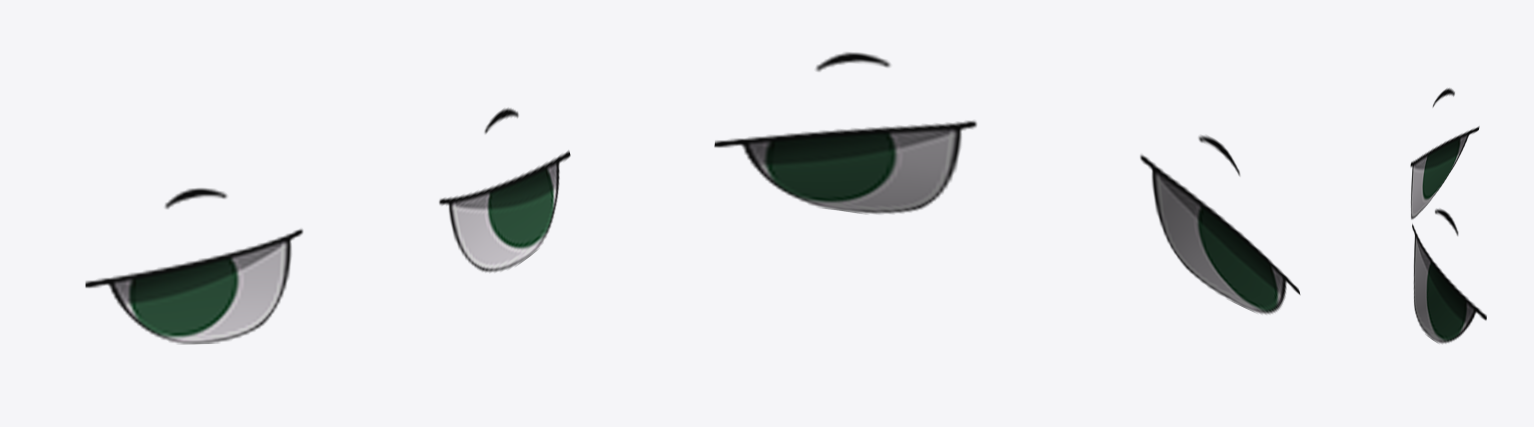
Rendered from Pained.gltf.
The picture shows the model from 3 angles, left to right: view 1: azimuth 30°, elevation 25°; view 2: azimuth 150°, elevation 25°; view 3: azimuth 270°, elevation 25°; orthographic projection. The views are drawn at different scales.
Visible parts, largest first — view 1: eyes6; view 2: eyes6; view 3: eyes6.
Boxes of the visible parts, <box> form: eyes6: <box>85,108,570,344</box>; eyes6: <box>714,52,1300,314</box>; eyes6: <box>1410,88,1486,343</box>.
Bounding box in the file's own units: 6.44 × 2.52 × 1.45.
1 material, 1 textured.
